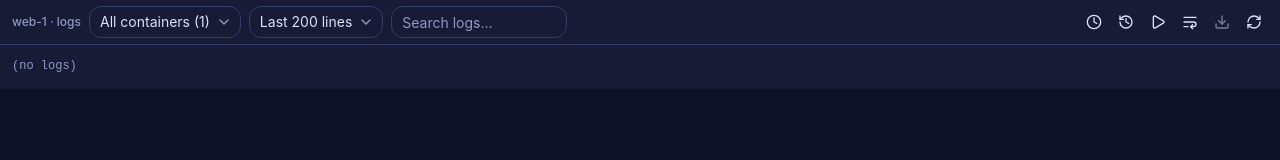
Scenario: LogsView › reports a live-stream startup failure
The width and height of the screenshot is (1280, 160).
Expected: the dropdown labelled "container" is shown, [89,6,241,38]
Click the button named "Live tail".
click(1158, 22)  # box [1144,8,1172,36]
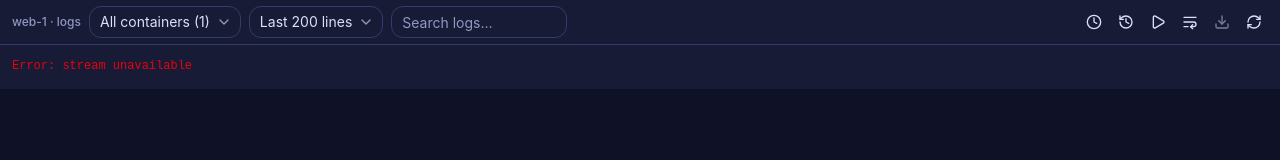
Expected: the text "Error: stream unavailable" is shown, [12,59,192,73]
